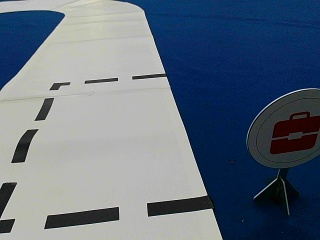company: (246, 89, 319, 167)
